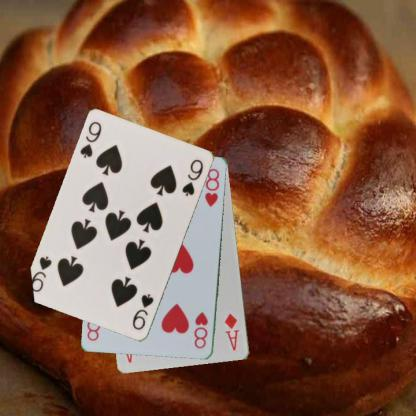8h: (191, 309, 209, 350)
9s: (77, 119, 103, 160), (130, 291, 155, 332)
Ad: (222, 311, 241, 352)
